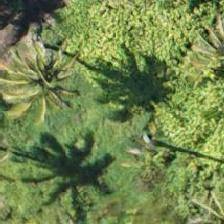coconut_tree: (0, 24, 82, 114)
